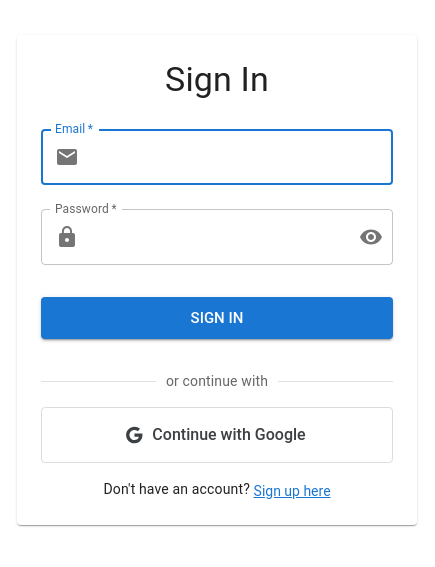
Test: LoginForm - Core Functionality › Form Validation › should show validation error for invalid email
The image size is (435, 567).
In the field labelled "Email *": (240, 157) [87, 129, 393, 185], type "invalid-email"
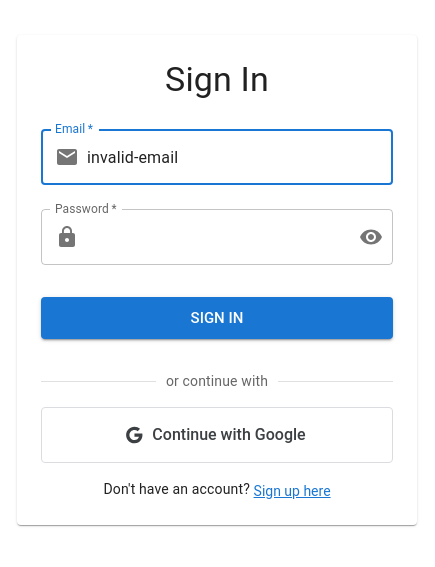
Click the button "Sign In": (217, 318) [41, 297, 393, 340]
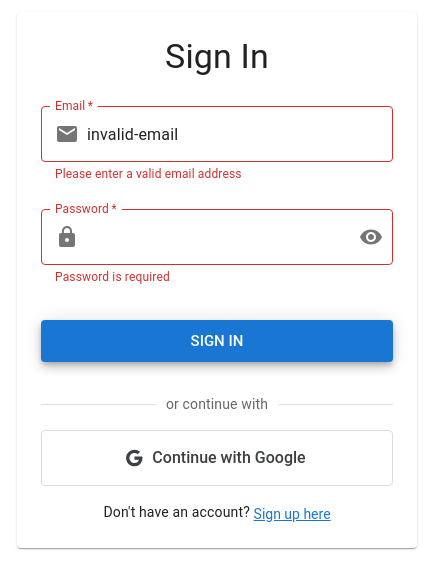
Expected: the text "Please enter a valid email address" is shown, [55, 167, 242, 181]
